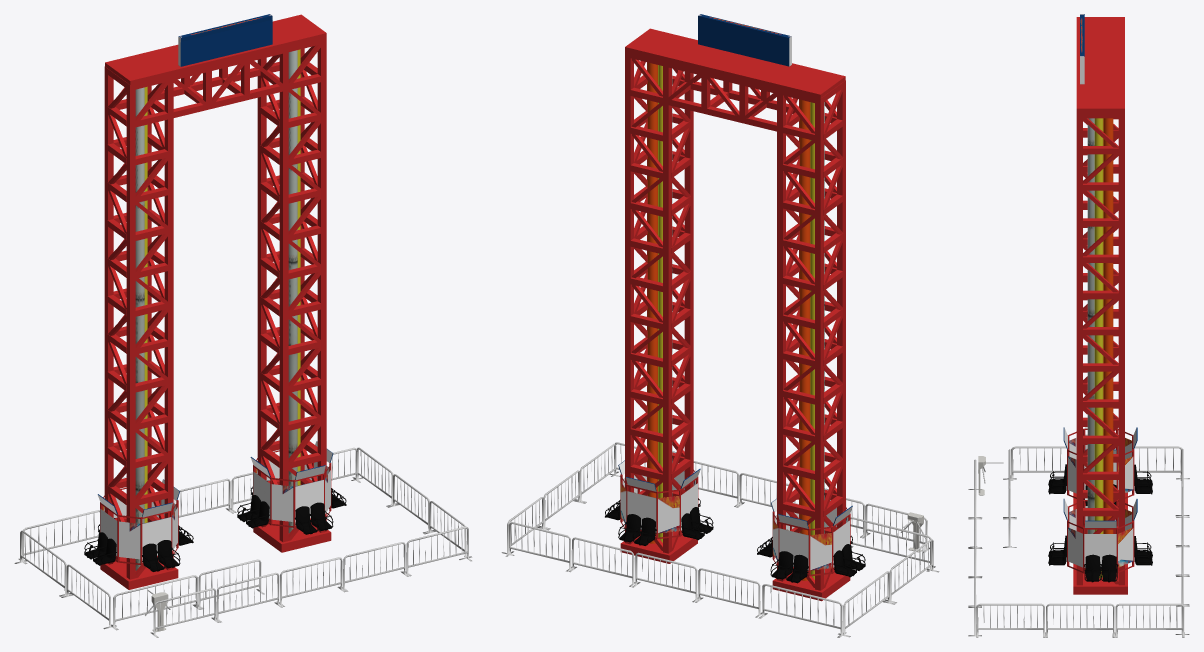
The model's file is kilauea.obj.
3 renders of one model, left to right at view 1: azimuth 30°, elevation 25°; view 2: azimuth 150°, elevation 25°; view 3: azimuth 270°, elevation 25°, orthographic. The views are drawn at different scales.
Parts seen in each view (by area): view 1: pasted__pCube2 group3, group55 pasted__pasted__pCube2 pasted__group3, pasted__pasted__pasted__pasted__pasted__pasted__pasted__pasted__, pCube2, group55 pasted__pCube2, pCube6, pasted__pasted__pCube2 pasted__group3 group4, group55 pasted__pasted__pasted__pCube2 pasted__pasted__group3 pa, pasted__pCube6 group66, pasted__pCylinder1 group34, group55 pasted__pasted__pCylinder1 pasted__group34, group55 pasted__group31 pasted__group32 pasted__pasted__pasted__ (+30 smaller); view 2: pCube6, group55 pasted__group29 pasted__group30 pasted__pasted__pasted__, pasted__pasted__pCube2 pasted__group3 group4, group55 pasted__pasted__pasted__pCube2 pasted__pasted__group3 pa, pasted__pasted__pasted__pCube2 pasted__pasted__group3 pasted__gr, group55 pasted__pasted__pasted__pasted__pCube2 pasted__pasted__p, pasted__pasted__pCylinder1 pasted__group34 group35, pasted__pCube2 group3, pasted__pCube6 group66, group55 pasted__pasted__pCube2 pasted__group3, group55 pasted__pasted__pasted__pCylinder1 pasted__pasted__group, group60 pasted__pasted__pasted__pasted__pasted__pasted__pasted__ (+26 smaller); view 3: group55 pasted__group31 pasted__group32 pasted__pasted__pasted__, pCube6, group55 pasted__pCube2, group55 pasted__pasted__pasted__pasted__pCube2 pasted__pasted__p, group55 pasted__pasted__pasted__pCylinder1 pasted__pasted__group, group55 pasted__pCylinder1, group55 pasted__pCube4 pasted__group45, group55 pasted__pasted__pCylinder1 pasted__group34, pCube4 group45, pasted__pCube1 group55, group55 pasted__group18 pasted__pasted__pasted__pasted__pasted__, barrier10:Mesh pasted__pasted__pasted__pasted__group69 pasted__p (+8 smaller).
Boxes of the visible parts, left/top/right/bottom form: pasted__pCube2 group3: left=126, top=83, right=135, bottom=579; group55 pasted__pasted__pCube2 pasted__group3: left=279, top=47, right=288, bottom=542; pasted__pasted__pasted__pasted__pasted__pasted__pasted__pasted__: left=132, top=38, right=323, bottom=202; pCube2: left=164, top=74, right=173, bottom=570; group55 pasted__pCube2: left=317, top=37, right=326, bottom=532; pCube6: left=105, top=14, right=326, bottom=85; pasted__pasted__pCube2 pasted__group3 group4: left=104, top=66, right=113, bottom=517; group55 pasted__pasted__pasted__pCube2 pasted__pasted__group3 pa: left=257, top=57, right=266, bottom=480; pasted__pCube6 group66: left=178, top=14, right=272, bottom=66; pasted__pCylinder1 group34: left=135, top=87, right=144, bottom=570; group55 pasted__pasted__pCylinder1 pasted__group34: left=288, top=50, right=297, bottom=533; group55 pasted__group31 pasted__group32 pasted__pasted__pasted__: left=300, top=46, right=317, bottom=481; pCube6: left=625, top=28, right=845, bottom=98; group55 pasted__group29 pasted__group30 pasted__pasted__pasted__: left=630, top=58, right=663, bottom=550; pasted__pasted__pCube2 pasted__group3 group4: left=815, top=96, right=823, bottom=590; group55 pasted__pasted__pasted__pCube2 pasted__pasted__group3 pa: left=663, top=61, right=671, bottom=553; pasted__pasted__pasted__pCube2 pasted__pasted__group3 pasted__gr: left=777, top=88, right=785, bottom=581; group55 pasted__pasted__pasted__pasted__pCube2 pasted__pasted__p: left=625, top=51, right=633, bottom=544; pasted__pasted__pCylinder1 pasted__group34 group35: left=799, top=99, right=810, bottom=580; pasted__pCube2 group3: left=837, top=80, right=845, bottom=528; pasted__pCube6 group66: left=698, top=14, right=791, bottom=66; group55 pasted__pasted__pCube2 pasted__group3: left=684, top=71, right=693, bottom=491; group55 pasted__pasted__pasted__pCylinder1 pasted__pasted__group: left=647, top=62, right=657, bottom=543; group60 pasted__pasted__pasted__pasted__pasted__pasted__pasted__: left=630, top=53, right=817, bottom=140; group55 pasted__group31 pasted__group32 pasted__pasted__pasted__: left=1082, top=112, right=1119, bottom=584; pCube6: left=1076, top=17, right=1124, bottom=112; group55 pasted__pCube2: left=1076, top=112, right=1082, bottom=585; group55 pasted__pasted__pasted__pasted__pCube2 pasted__pasted__p: left=1118, top=112, right=1124, bottom=585; group55 pasted__pasted__pasted__pCylinder1 pasted__pasted__group: left=1103, top=118, right=1113, bottom=533; group55 pasted__pCylinder1: left=1094, top=118, right=1102, bottom=578; group55 pasted__pCube4 pasted__group45: left=1068, top=506, right=1133, bottom=567; group55 pasted__pasted__pCylinder1 pasted__group34: left=1087, top=118, right=1094, bottom=533; pCube4 group45: left=1068, top=434, right=1133, bottom=493; pasted__pCube1 group55: left=1073, top=564, right=1127, bottom=594; group55 pasted__group18 pasted__pasted__pasted__pasted__pasted__: left=1083, top=128, right=1118, bottom=425; barrier10:Mesh pasted__pasted__pasted__pasted__group69 pasted__p: left=1115, top=603, right=1184, bottom=637.
Bounding box in the file's own units: 18.36 × 26.95 × 10.53.
